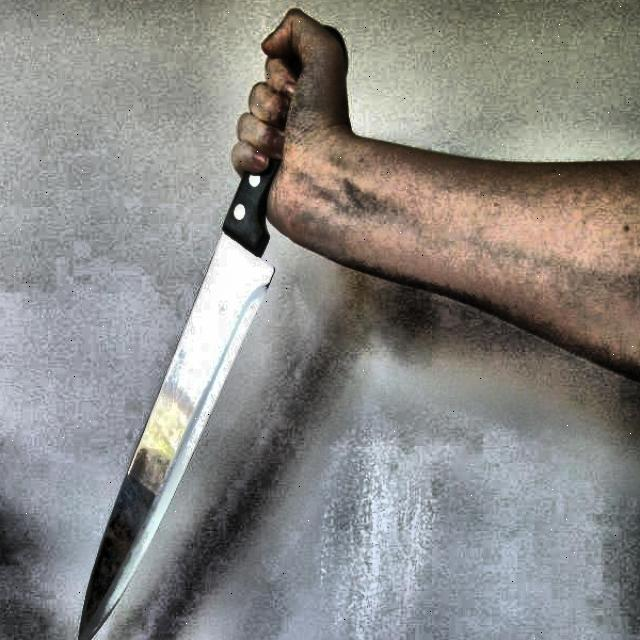knife: (76, 26, 344, 640)
